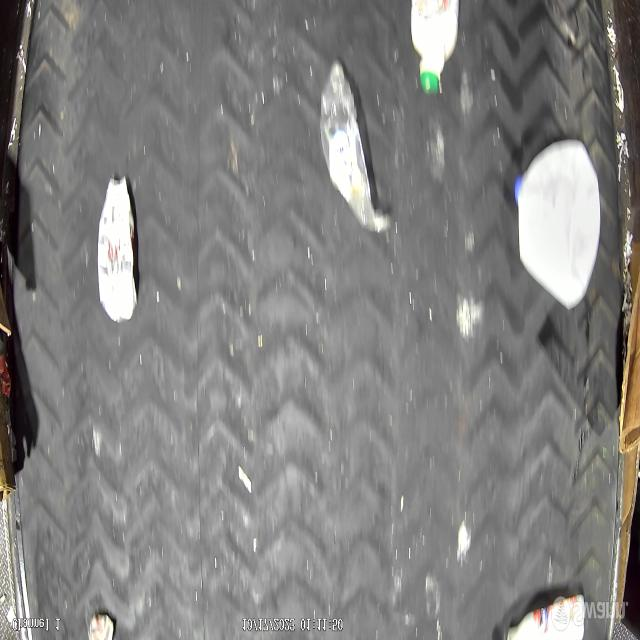milk_jug: (514, 134, 601, 310)
plastic_bottle: (322, 62, 384, 235)
